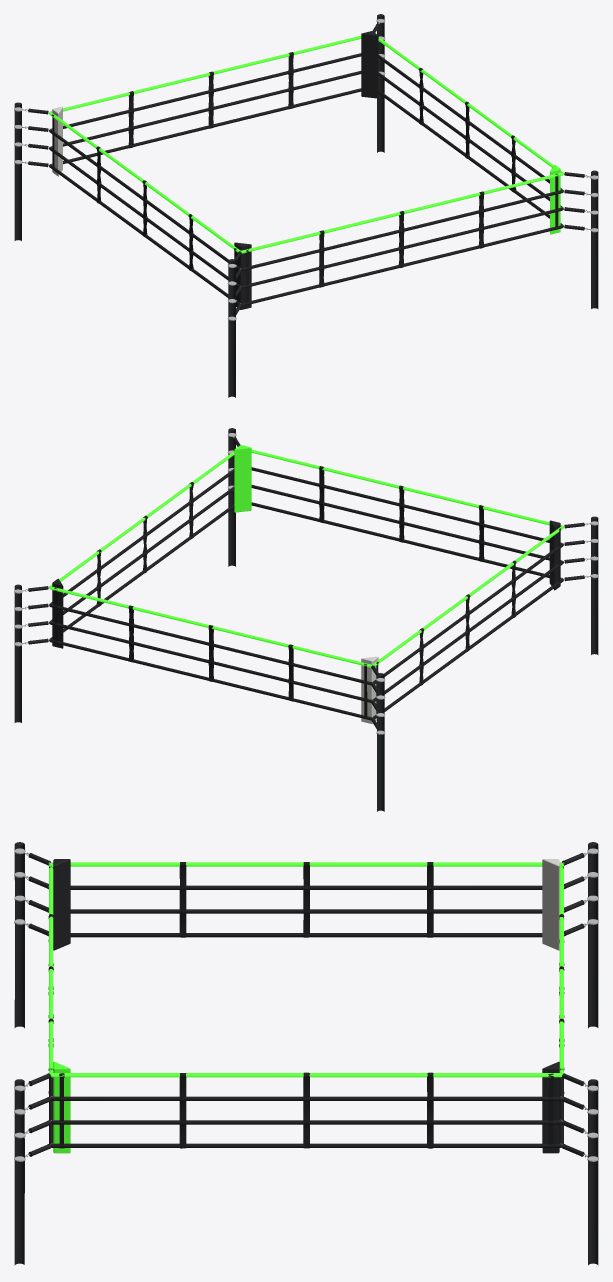
Rendered from ring_top_hi.glb.
3 renders of one model, top to bottom at view 1: azimuth 30°, elevation 25°; view 2: azimuth 150°, elevation 25°; view 3: azimuth 270°, elevation 25°, orthographic. The views are drawn at different scales.
Bounding box in the file's own units: 5.51 × 1.96 × 5.63.
